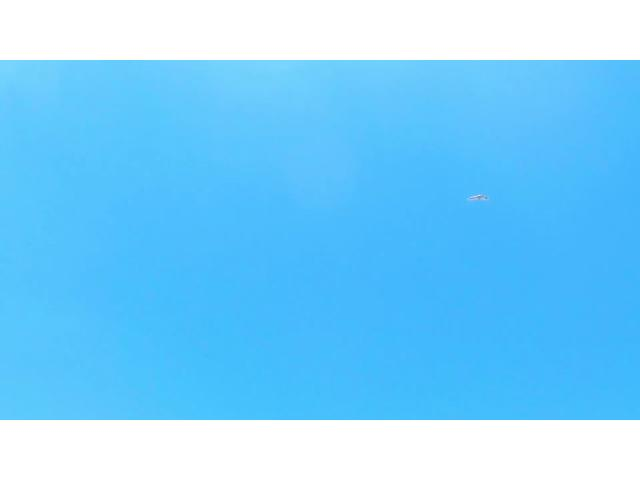Anti-Drone: (457, 178, 495, 210)
